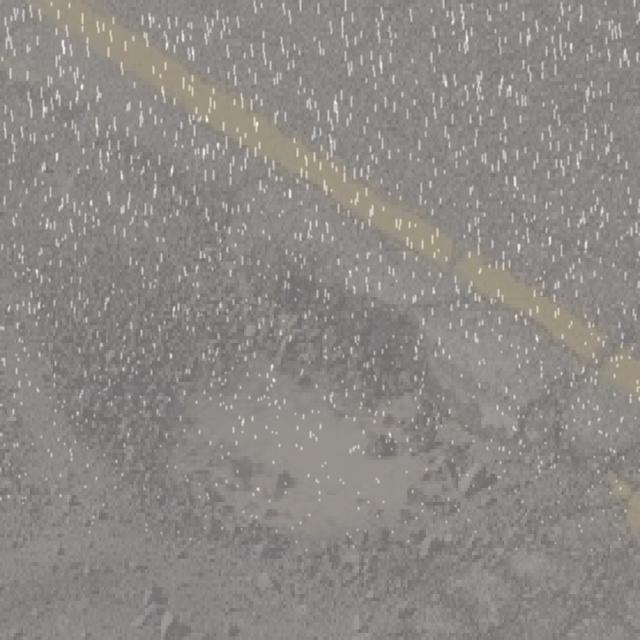Pothole: (37, 259, 506, 579)
